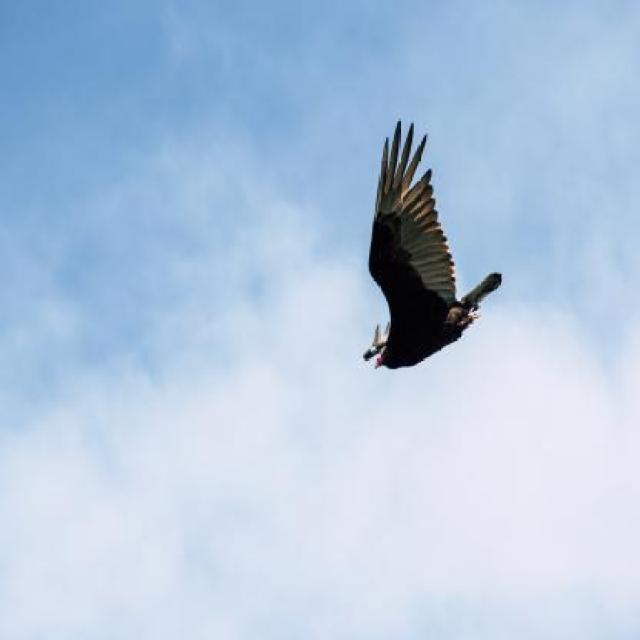bird: (363, 120, 502, 372)
